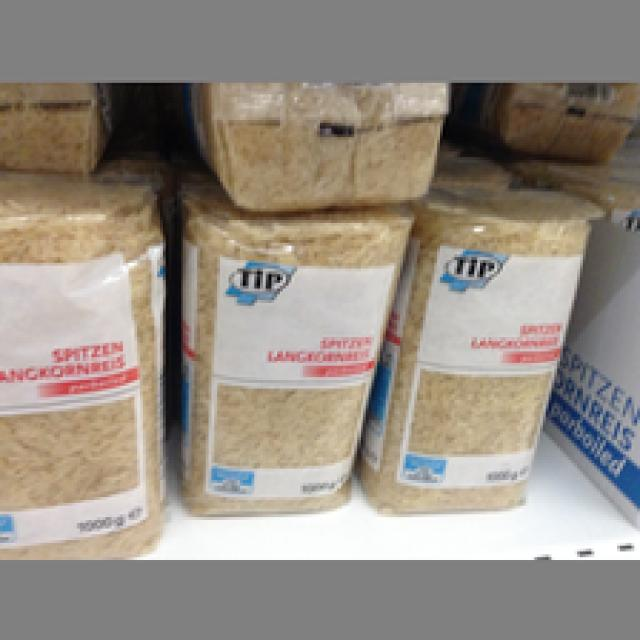groceries: (352, 180, 592, 511), (174, 195, 414, 514), (0, 174, 163, 557), (177, 80, 446, 211)
